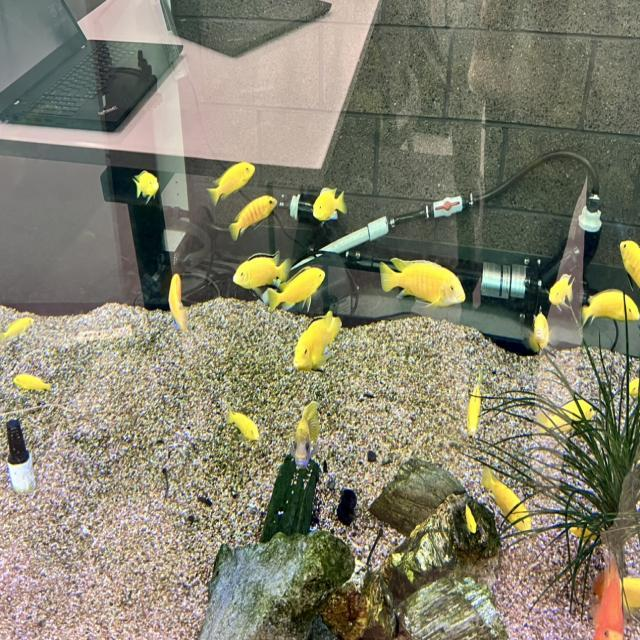YellowCichlid: (279, 314, 353, 371), (380, 259, 465, 306), (483, 466, 531, 530), (205, 149, 263, 198), (585, 286, 640, 336), (228, 252, 288, 288), (222, 406, 276, 446), (157, 271, 195, 326), (275, 275, 333, 308), (292, 404, 322, 466), (129, 159, 162, 215), (312, 181, 347, 231), (9, 366, 56, 401), (234, 204, 282, 236), (528, 308, 556, 362), (536, 398, 596, 422), (614, 232, 640, 282), (0, 312, 35, 348), (465, 388, 485, 445), (548, 272, 572, 311), (568, 518, 598, 546), (460, 504, 480, 536), (619, 578, 640, 606), (628, 376, 640, 394)
